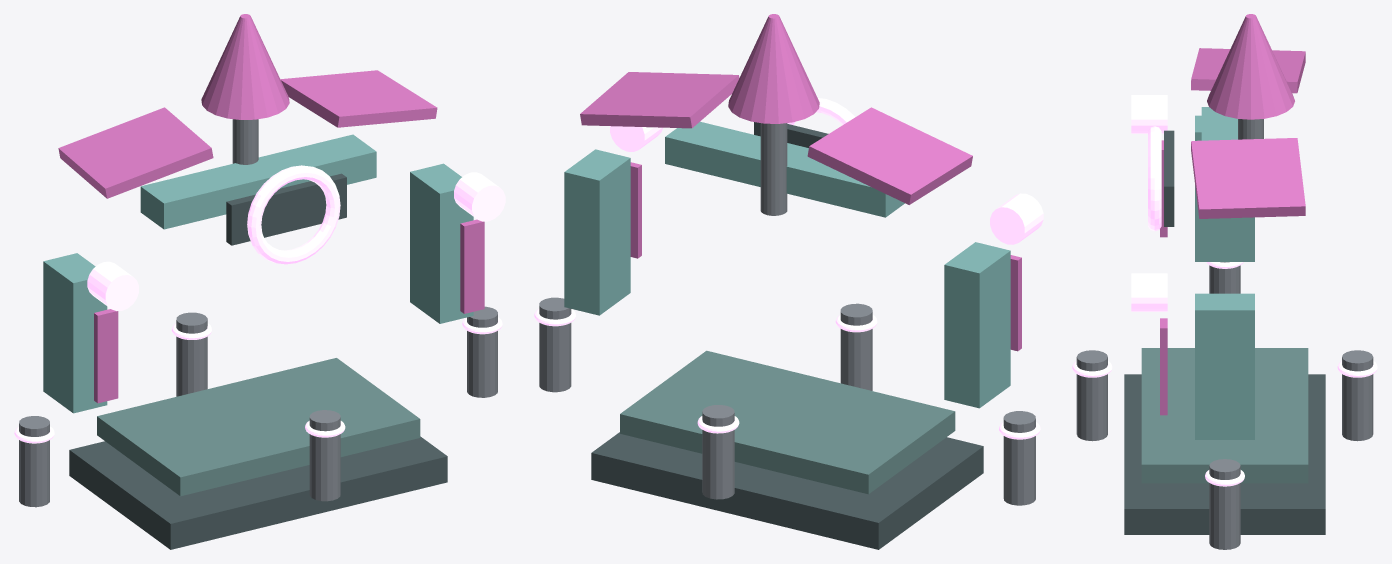
Rendered from asset.glb.
3 views of the same model, side by side, from view 1: azimuth 30°, elevation 25°; view 2: azimuth 150°, elevation 25°; view 3: azimuth 270°, elevation 25° (orthographic). The views are drawn at different scales.
Parts seen in each view (by area): view 1: RaisedDeck, Foundation, CrossBeam, CanopyWing_-1, Pylon_-1, Pylon_1, CanopyWing_1, TopMarker, SignPanel, IdentityRing, Bollard_3, Bollard_2 (+7 smaller); view 2: RaisedDeck, Foundation, Pylon_1, Pylon_-1, CanopyWing_-1, CrossBeam, CanopyWing_1, TopMarker, Bollard_2, Bollard_1, Bollard_0, CenterMast (+6 smaller); view 3: RaisedDeck, Foundation, Pylon_1, CanopyWing_1, TopMarker, Bollard_1, Bollard_3, Bollard_0, CanopyWing_-1, Pylon_-1, CrossBeam, Lamp_1 (+6 smaller).
Part boxes in pixels (box(x1,y1,x2,y2)): RaisedDeck: box(97, 358, 420, 496); Foundation: box(69, 436, 447, 549); CrossBeam: box(140, 134, 376, 229); CanopyWing_-1: box(58, 107, 213, 198); Pylon_-1: box(43, 253, 107, 413); Pylon_1: box(410, 163, 473, 323); CanopyWing_1: box(280, 70, 437, 127); TopMarker: box(201, 14, 289, 119); SignPanel: box(226, 173, 346, 245); IdentityRing: box(247, 165, 340, 264); Bollard_3: box(309, 410, 340, 501); Bollard_2: box(19, 416, 49, 507); RaisedDeck: box(620, 350, 955, 494); Foundation: box(591, 432, 983, 549); Pylon_1: box(564, 149, 630, 315); Pylon_-1: box(944, 242, 1010, 408); CanopyWing_-1: box(807, 107, 972, 204); CrossBeam: box(665, 121, 904, 217); CanopyWing_1: box(580, 72, 739, 128); TopMarker: box(728, 14, 819, 123); Bollard_2: box(1003, 411, 1035, 505); Bollard_1: box(702, 405, 734, 499); Bollard_0: box(539, 297, 571, 392); CenterMast: box(760, 123, 787, 215); RaisedDeck: box(1141, 348, 1308, 483); Foundation: box(1124, 374, 1325, 534); Pylon_1: box(1195, 293, 1254, 439); CanopyWing_1: box(1191, 138, 1305, 218); TopMarker: box(1207, 14, 1294, 119); Bollard_1: box(1342, 350, 1373, 441); Bollard_3: box(1076, 350, 1107, 441); Bollard_0: box(1209, 459, 1240, 549); CanopyWing_-1: box(1191, 48, 1305, 93); Pylon_-1: box(1195, 115, 1254, 261); CrossBeam: box(1201, 107, 1248, 236); Lamp_1: box(1131, 273, 1167, 311).
Bounding box in the file's own units: 4.27 × 3.83 × 2.35.
